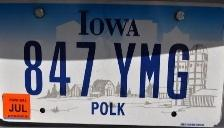4: (49, 39, 74, 97)
7: (75, 40, 97, 97)
8: (21, 36, 48, 96)
G: (165, 40, 192, 100)
M: (138, 40, 161, 102)
Y: (110, 40, 138, 101)
